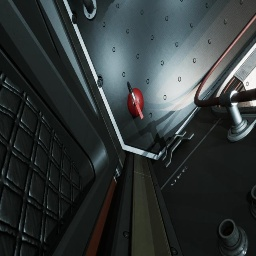FireExtinguisher ]: (127, 81, 144, 120)
